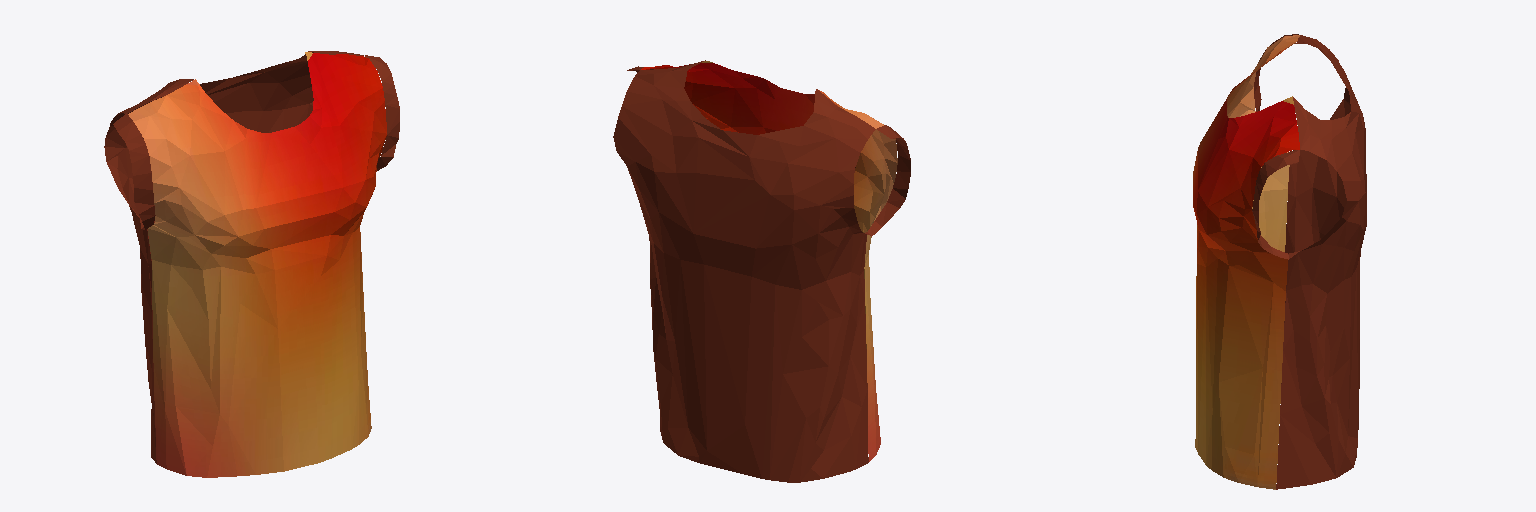
The picture shows the model from 3 angles: view 1: azimuth 30°, elevation 25°; view 2: azimuth 150°, elevation 25°; view 3: azimuth 270°, elevation 25°; orthographic projection.
Parts seen in each view (by area): view 1: T_shirt.007; view 2: T_shirt.007; view 3: T_shirt.007.
Boxes of the visible parts, x1=… form: T_shirt.007: x1=104, y1=51, x2=399, y2=477; T_shirt.007: x1=613, y1=60, x2=910, y2=482; T_shirt.007: x1=1193, y1=34, x2=1366, y2=489.
Bounding box in the file's own units: 0.2935 × 0.3892 × 0.1639.
Materials: 2 (1 with a texture image).